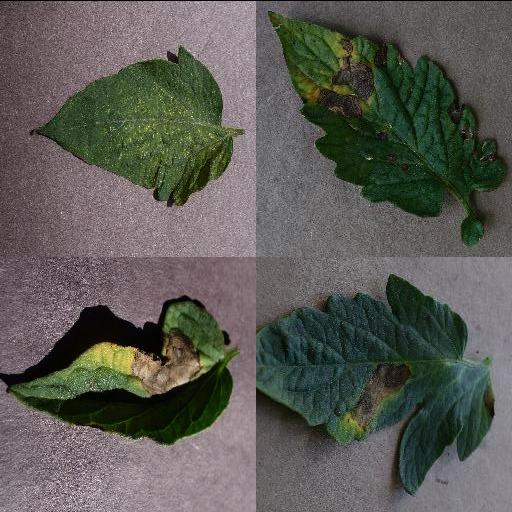Early Blight: (256, 272, 496, 495), (268, 10, 510, 217), (6, 298, 234, 444)
Spider Mites: (31, 47, 233, 205)
